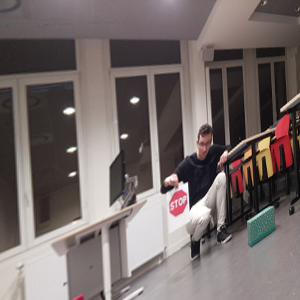stop: (169, 190, 188, 216)
